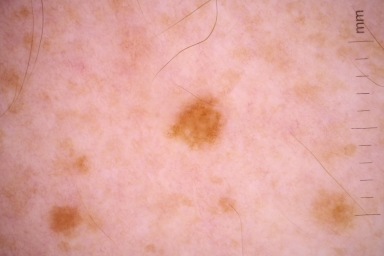melanoma: (168, 96, 225, 151), (310, 194, 352, 233), (45, 204, 80, 232)
